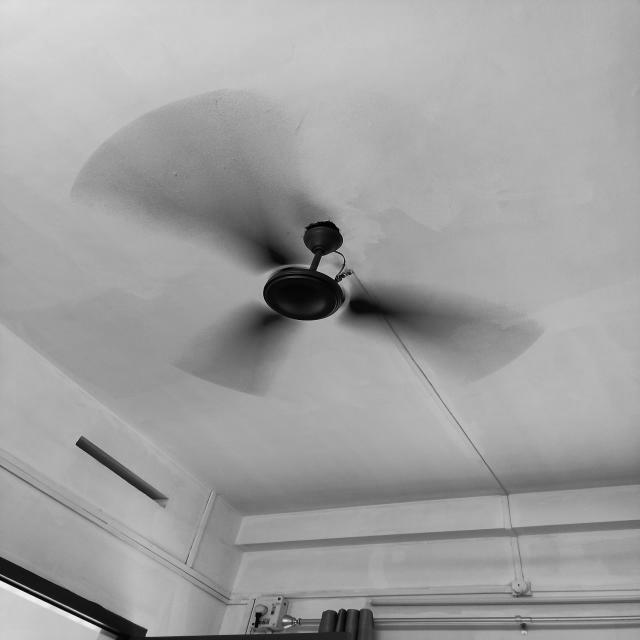fan: (70, 93, 552, 399)
light: (262, 219, 352, 321)
